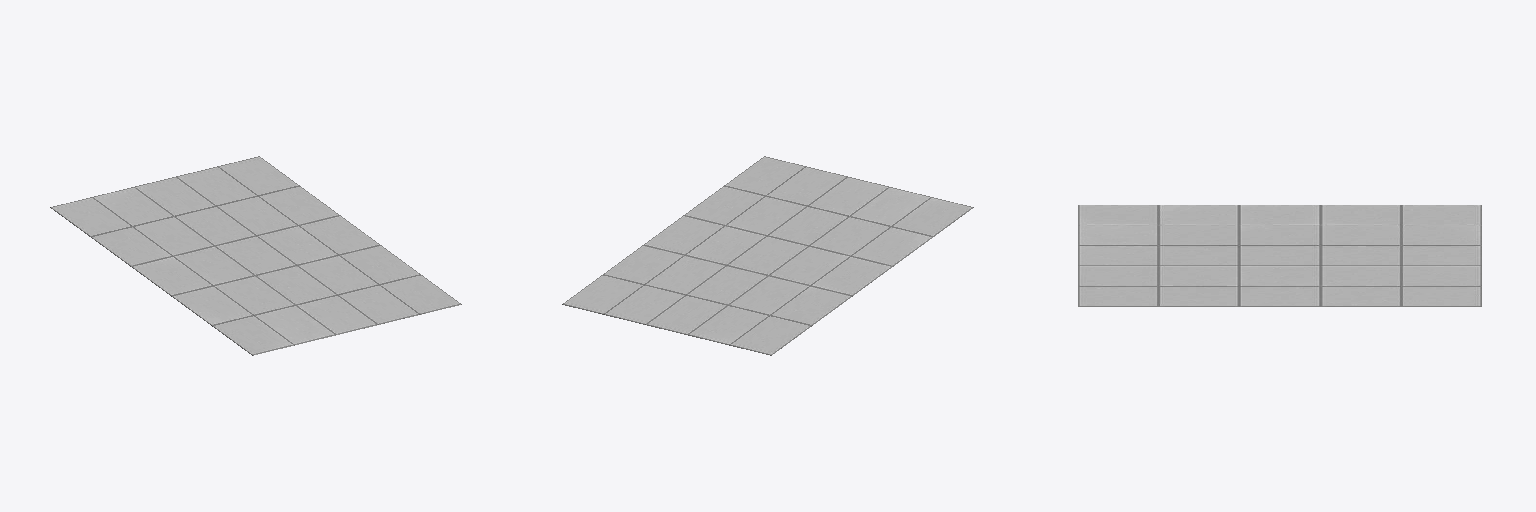
The picture shows the model from 3 angles: view 1: azimuth 30°, elevation 25°; view 2: azimuth 150°, elevation 25°; view 3: azimuth 270°, elevation 25°; orthographic projection.
Parts seen in each view (by area): view 1: Box002; view 2: Box002; view 3: Box002.
Boxes of the visible parts, box(x1,y1,x2,y2) form: Box002: box(50, 156, 461, 355); Box002: box(562, 156, 973, 355); Box002: box(1078, 205, 1481, 306).
Bounding box in the file's own units: 722 × 2 × 1209.
1 materials, 1 textured.